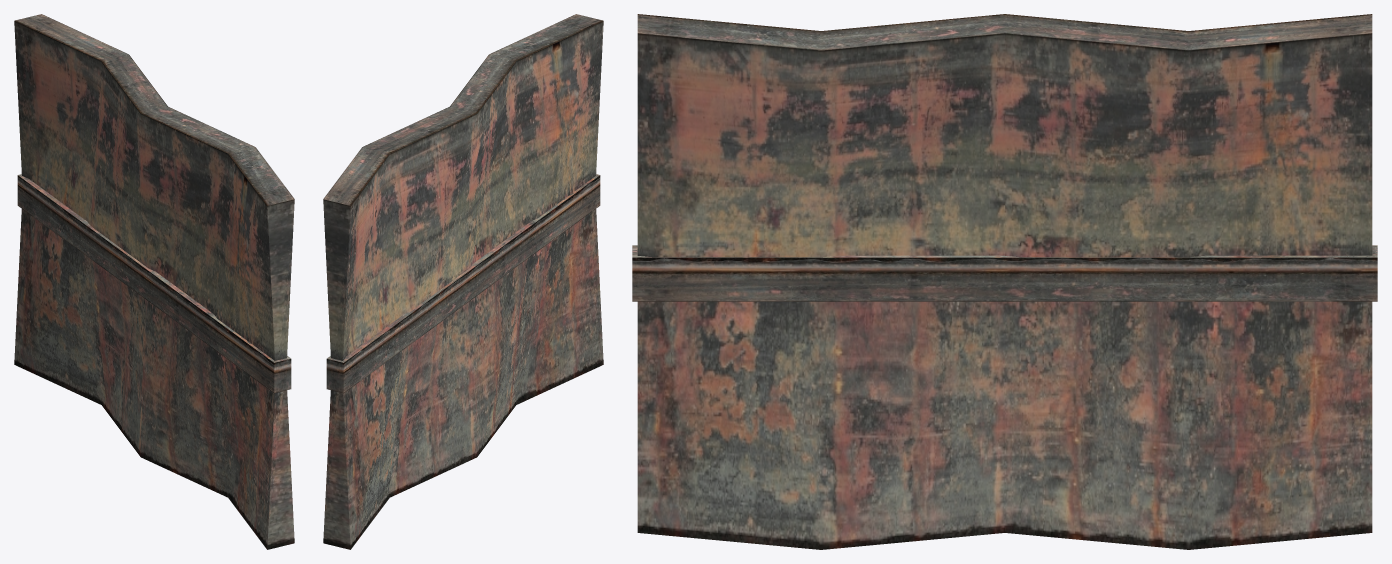
File: wall_I.FBX
The picture shows the model from 3 angles, left to right: view 1: azimuth 30°, elevation 25°; view 2: azimuth 150°, elevation 25°; view 3: azimuth 270°, elevation 25°; orthographic projection. The views are drawn at different scales.
Parts seen in each view (by area): view 1: wall_base, Box002; view 2: wall_base, Box002; view 3: wall_base, Box002.
Part boxes in pixels (x1,y1,x2,y2): wall_base: (14,14,294,549); Box002: (17,174,291,393); wall_base: (323,14,603,549); Box002: (326,174,600,393); wall_base: (637,14,1372,549); Box002: (632,245,1377,301).
Bounding box in the file's own units: 9.4 × 60 × 81.12.
